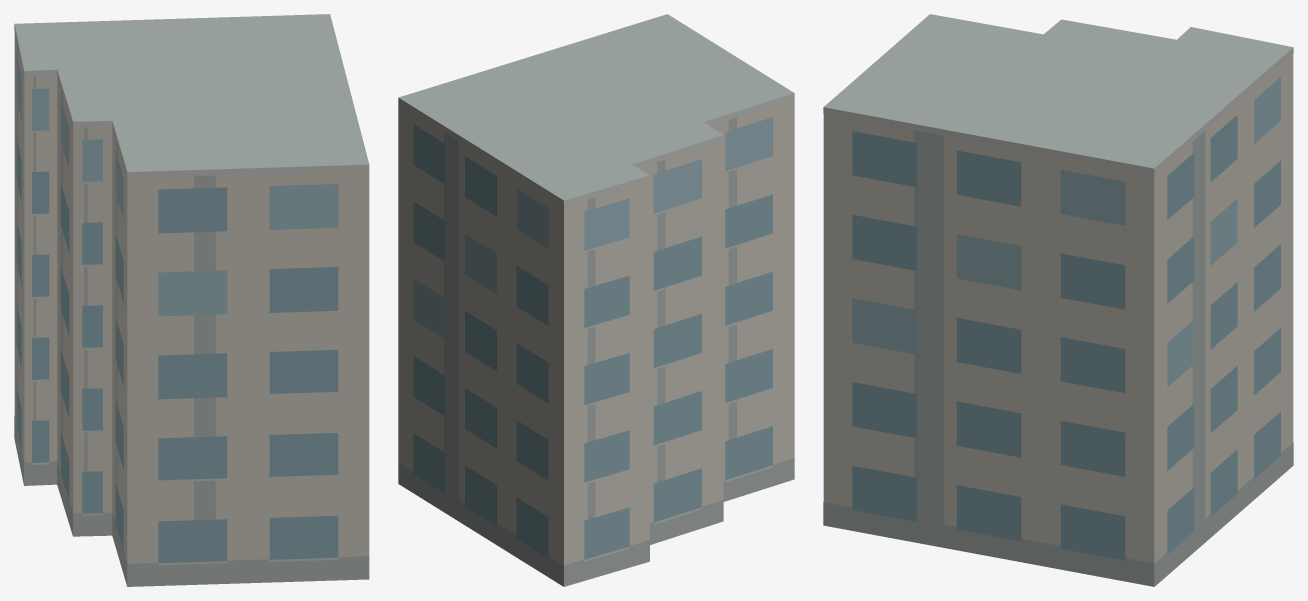
Rendered from survey-upis-32810090.glb.
3 renders of one model, left to right at view 1: azimuth 30°, elevation 25°; view 2: azimuth 150°, elevation 25°; view 3: azimuth 270°, elevation 25°, orthographic. The views are drawn at different scales.
Visible parts, largest first — view 1: survey-upis-32810090.tmp; view 2: survey-upis-32810090.tmp; view 3: survey-upis-32810090.tmp.
Part boxes in pixels (box(x1,y1,x2,y2)): survey-upis-32810090.tmp: box(14, 14, 369, 586); survey-upis-32810090.tmp: box(398, 14, 794, 586); survey-upis-32810090.tmp: box(823, 14, 1293, 586).
Bounding box in the file's own units: 12.81 × 16.15 × 16.45.
